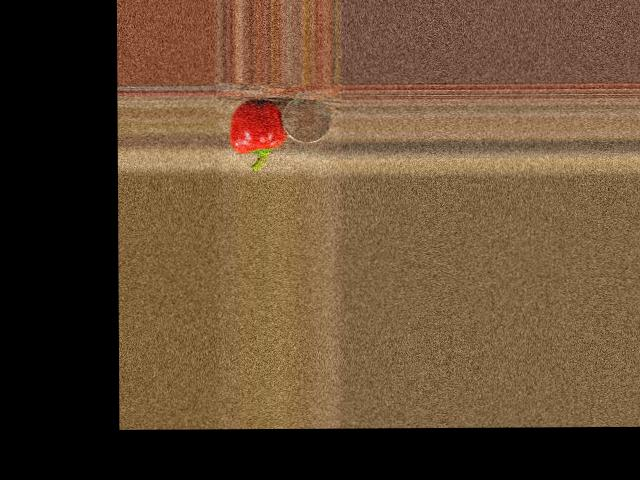bell_pepper: (229, 98, 284, 170)
